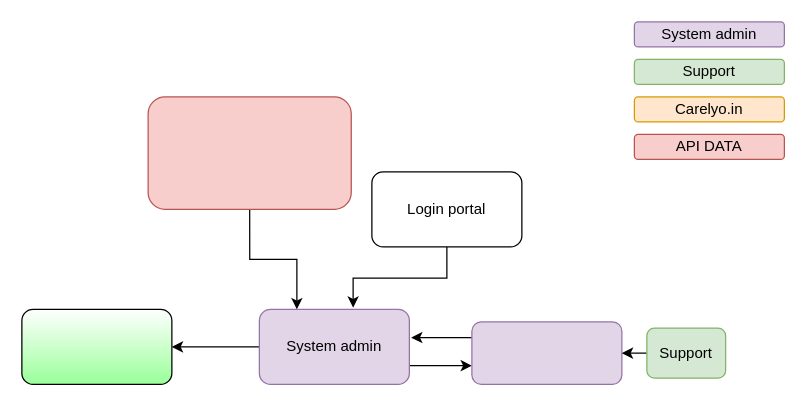
Image size: 806x406. Some labels were removed from this diagram. The box of each missing label's shape, as (x1, y1, x2, y2) in pixels:
API DATA Consultations, Feedback, Matrix, all users,: (147, 96, 351, 209)
Business: (21, 308, 172, 384)
Second line support: (471, 321, 622, 384)
